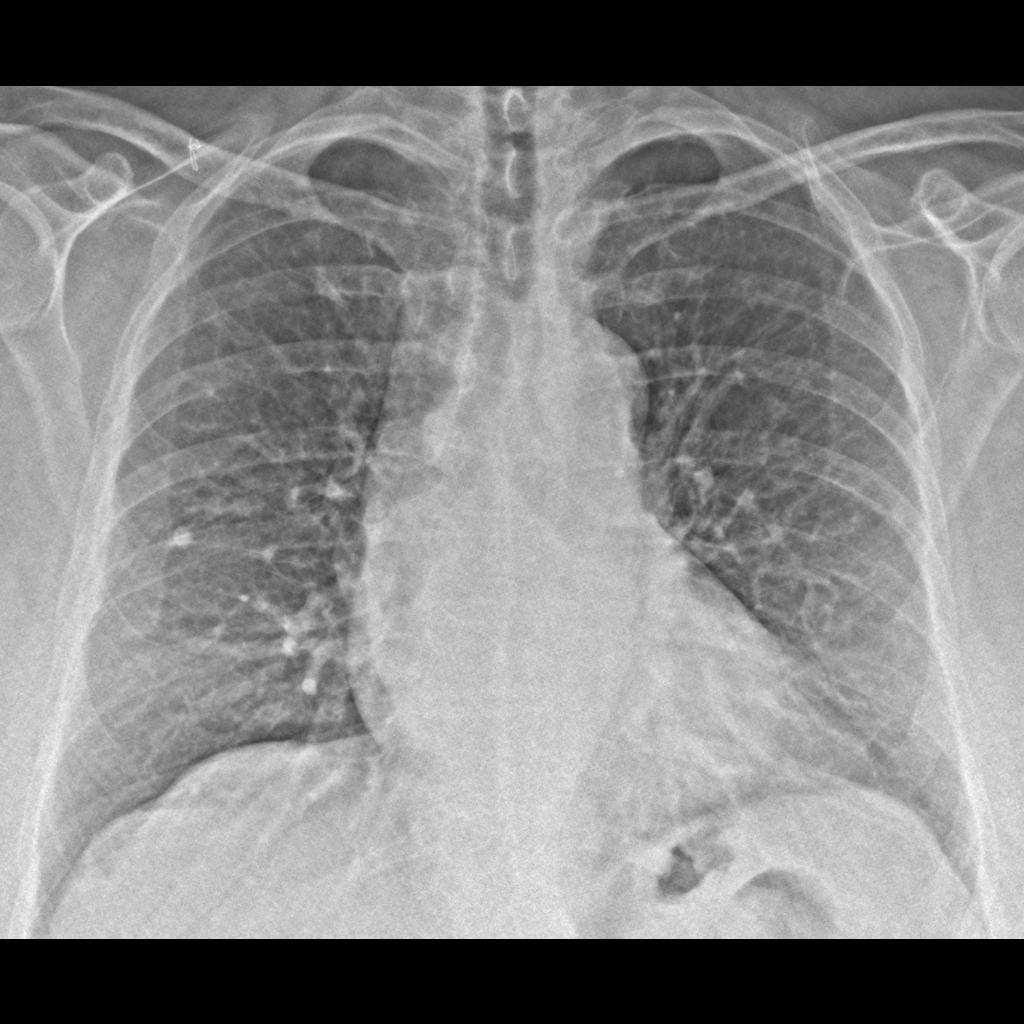Nodule: (167, 522, 206, 562)
